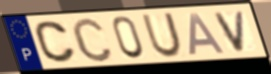0: (111, 15, 145, 60)
A: (188, 11, 228, 57)
C: (69, 16, 115, 64), (33, 20, 78, 64)
U: (140, 12, 185, 60)
V: (212, 9, 248, 53)
